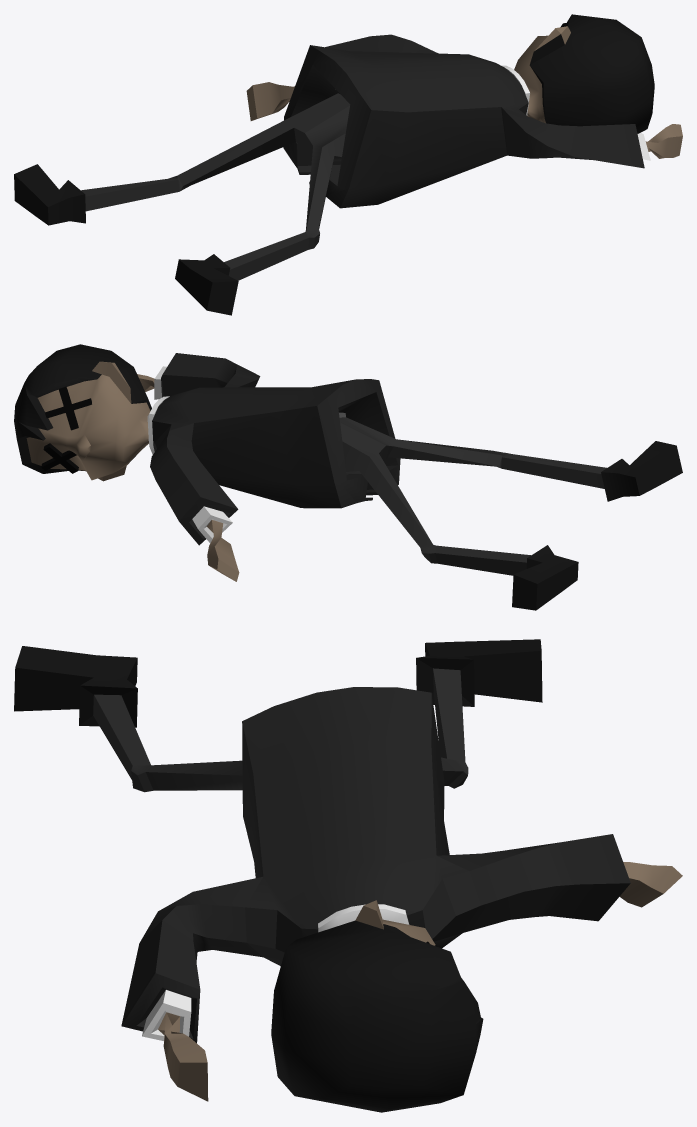
Rendered from Dead.fbx.
3 views of the same model, one above another, from view 1: azimuth 30°, elevation 25°; view 2: azimuth 150°, elevation 25°; view 3: azimuth 270°, elevation 25° (orthographic). The views are drawn at different scales.
Parts seen in each view (by area): view 1: Dead; view 2: Dead; view 3: Dead.
Part boxes in pixels (x1,y1,x2,y2): Dead: (14, 14, 682, 315); Dead: (14, 344, 682, 610); Dead: (14, 639, 682, 1112).
Size of the model in its own units: 4.63 by 1.19 by 3.05.
